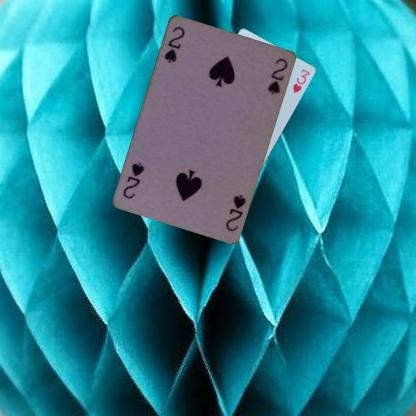2s: (161, 23, 186, 64), (223, 192, 247, 232)
